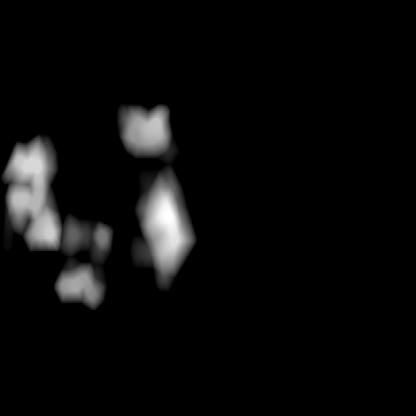palm: (2, 138, 102, 305)
thumb: (116, 101, 191, 283)
